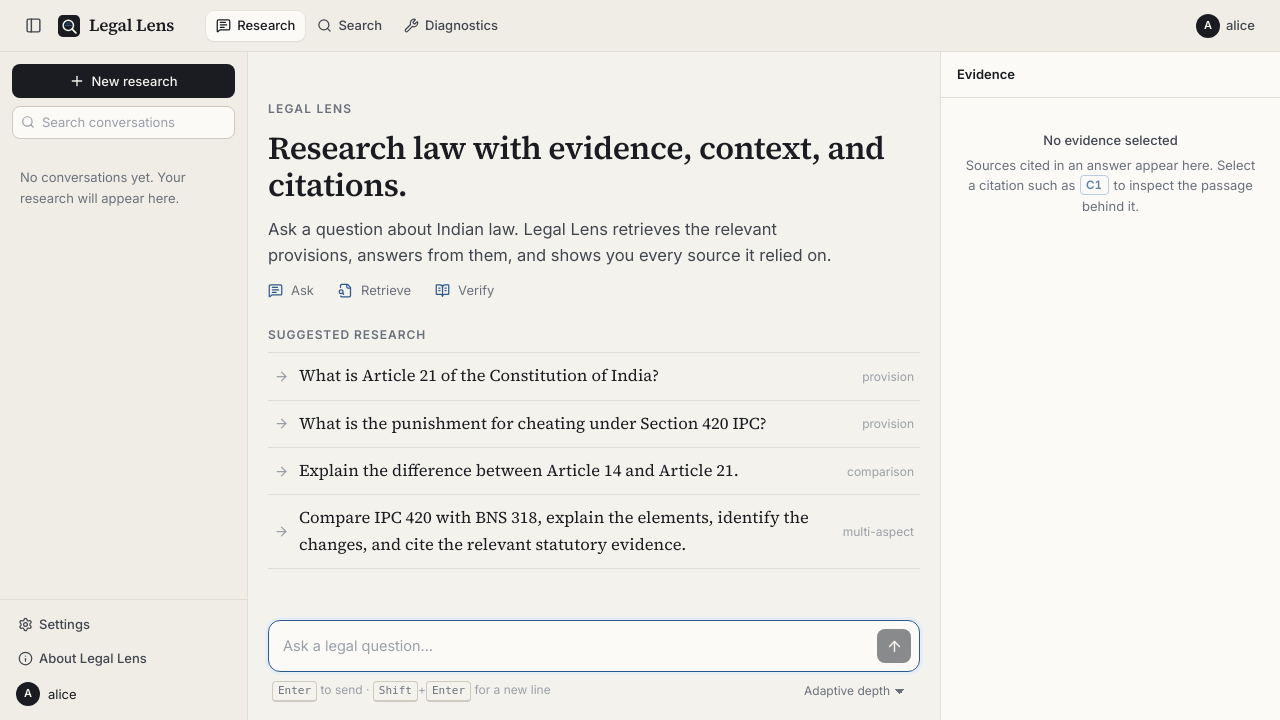
Test: chat workspace › shows the insufficient-evidence state instead of inventing sources
Type "Something not in the corpus" into the text box with test id "composer-input" at (577, 646), box [283,629,871,663]
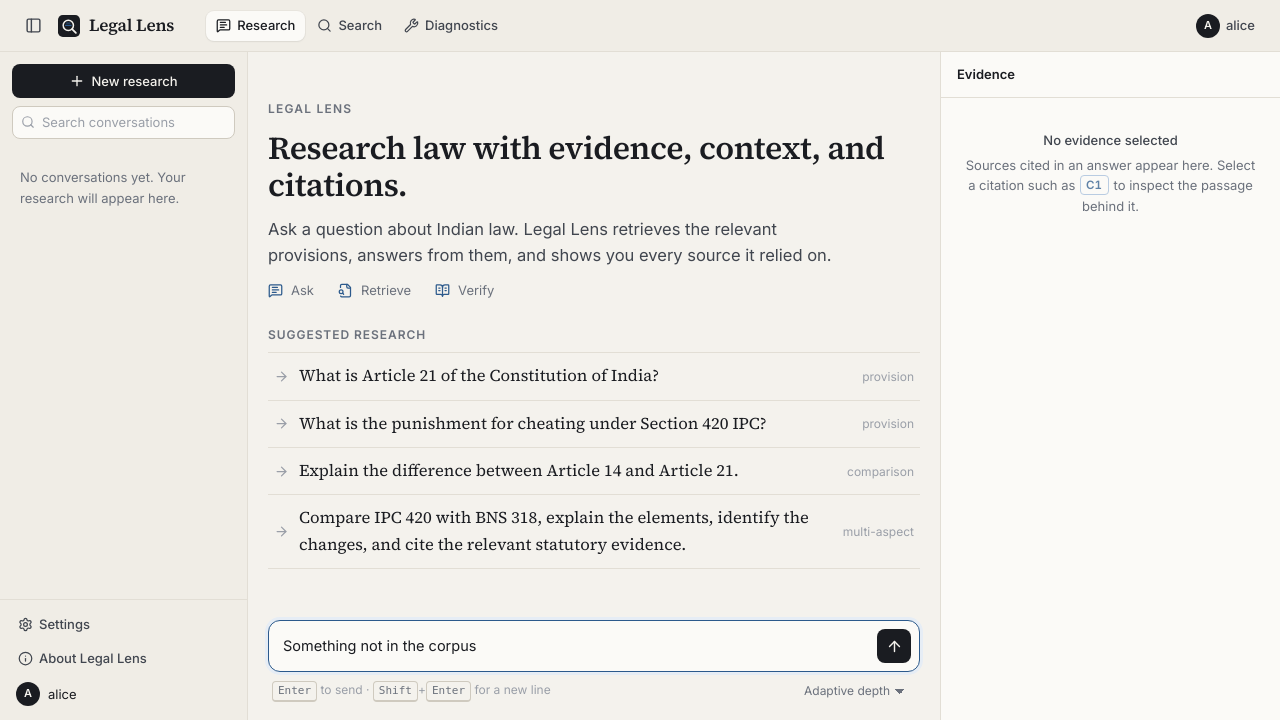
Press Enter
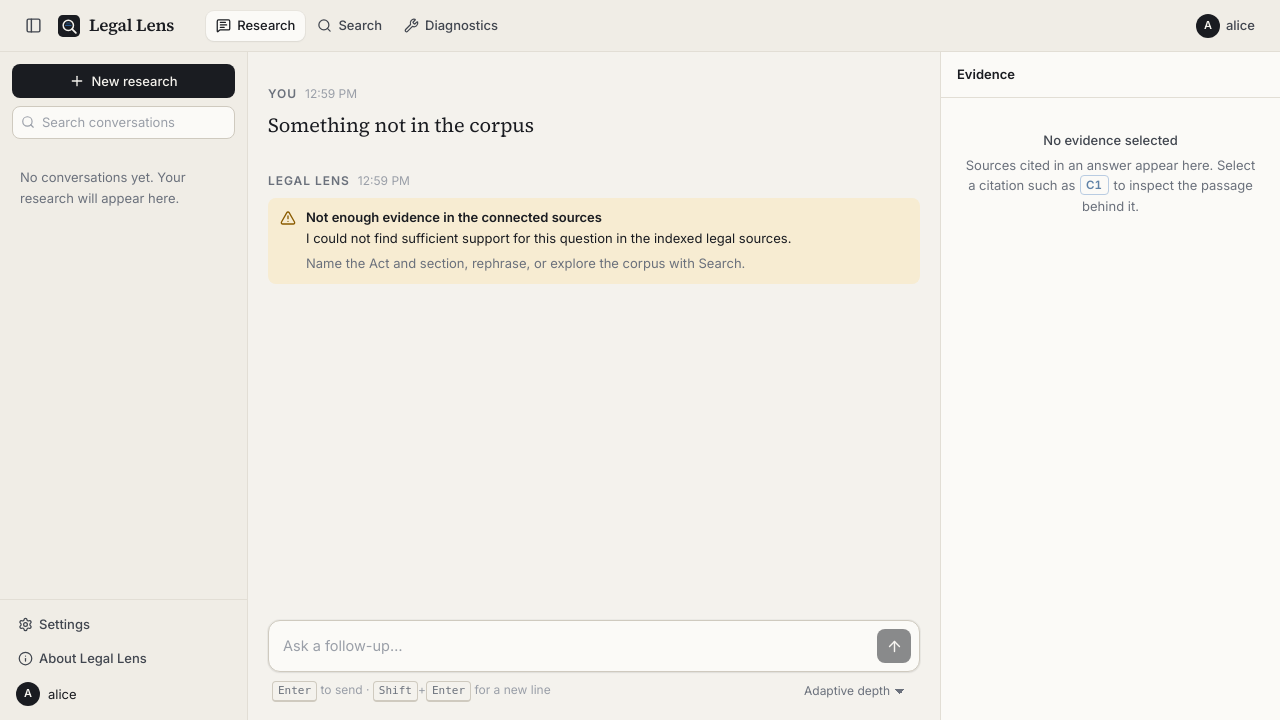
Check: the text "Not enough evidence in the connected sources" is shown, box [306,209,602,225]
